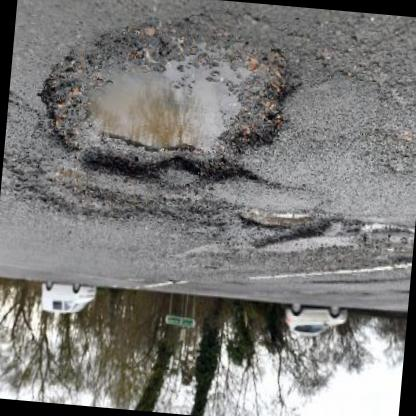pothole: (31, 10, 298, 197), (233, 203, 332, 258)
